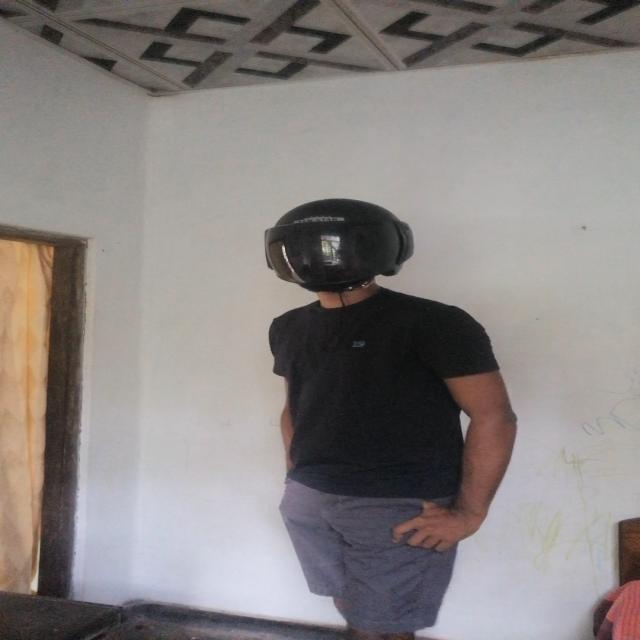Helmet_Wearer: (242, 201, 429, 314)
Person: (249, 195, 507, 625)
